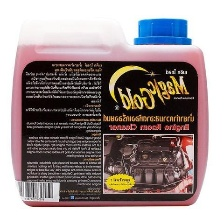cleaning_solution: (6, 11, 211, 209)
